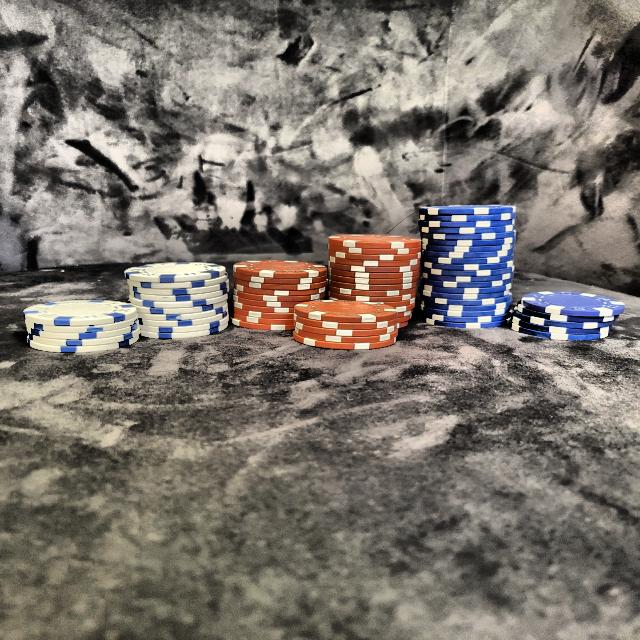Chip: (416, 194, 521, 337), (123, 250, 242, 350), (315, 230, 424, 332), (504, 274, 633, 351), (14, 294, 145, 360), (240, 247, 334, 338), (280, 300, 404, 357)
